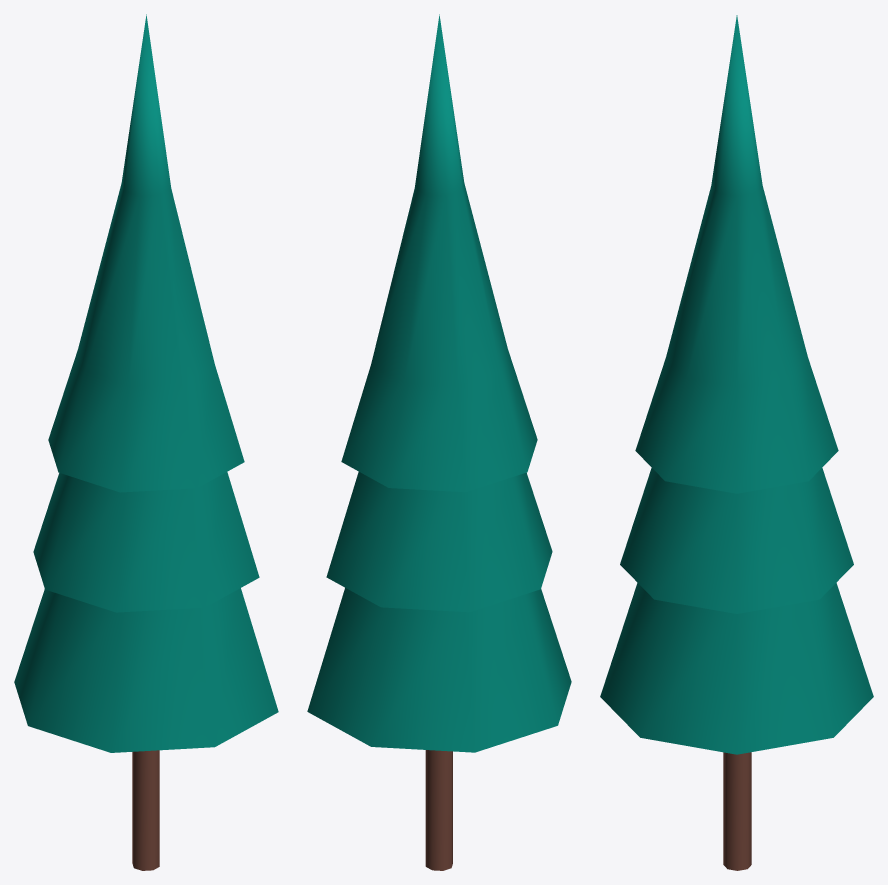
Rendered from firtree_2_3_world_ap_0_lev1.glb.
3 renders of one model, left to right at view 1: azimuth 30°, elevation 25°; view 2: azimuth 150°, elevation 25°; view 3: azimuth 270°, elevation 25°, orthographic.
Visible parts, largest first — view 1: firtree_2_3_world_ap_0_lev1; view 2: firtree_2_3_world_ap_0_lev1; view 3: firtree_2_3_world_ap_0_lev1.
Boxes of the visible parts, x1,y1,x2,y2 form: firtree_2_3_world_ap_0_lev1: [14, 14, 278, 870]; firtree_2_3_world_ap_0_lev1: [307, 14, 571, 870]; firtree_2_3_world_ap_0_lev1: [600, 15, 873, 870].
Size of the model in its own units: 0.6179 by 2.12 by 0.6179.
Materials: 1 (1 with a texture image).
